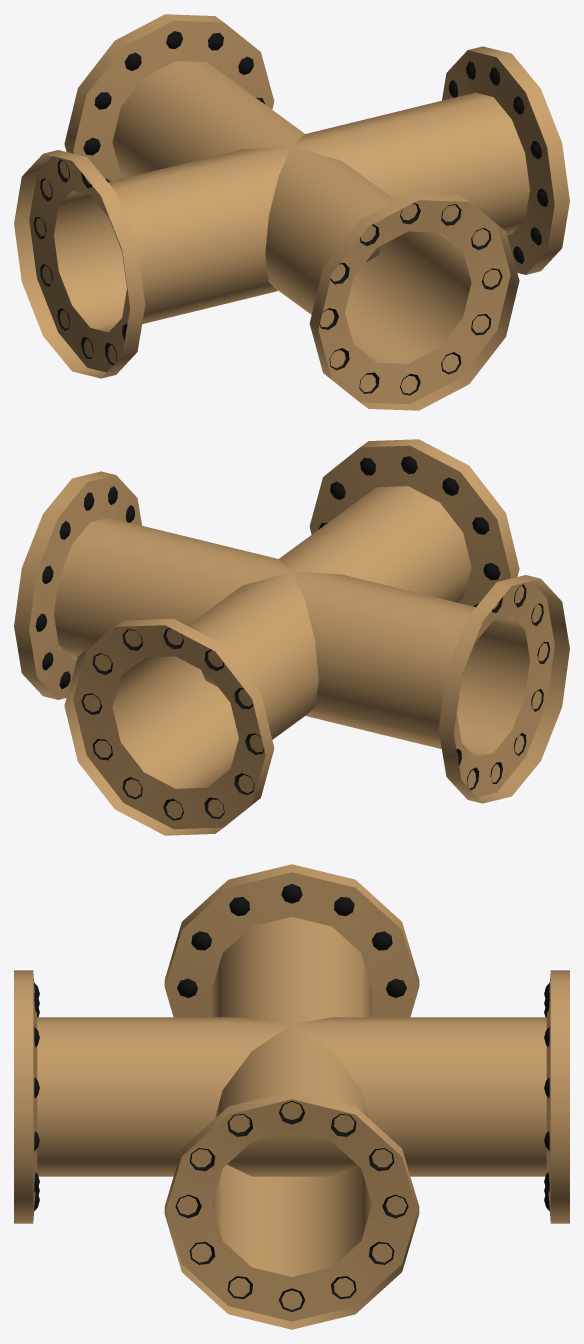
Rendered from fourWayPipe_mesh.fbx.
3 renders of one model, top to bottom at view 1: azimuth 30°, elevation 25°; view 2: azimuth 150°, elevation 25°; view 3: azimuth 270°, elevation 25°, orthographic. The views are drawn at different scales.
Parts seen in each view (by area): view 1: fourWayPipe; view 2: fourWayPipe; view 3: fourWayPipe.
Boxes of the visible parts, x1,y1,x2,y2 form: fourWayPipe: (14, 14, 569, 410); fourWayPipe: (14, 439, 569, 835); fourWayPipe: (14, 864, 569, 1329).
Size of the model in its own units: 1 by 0.4576 by 1.
